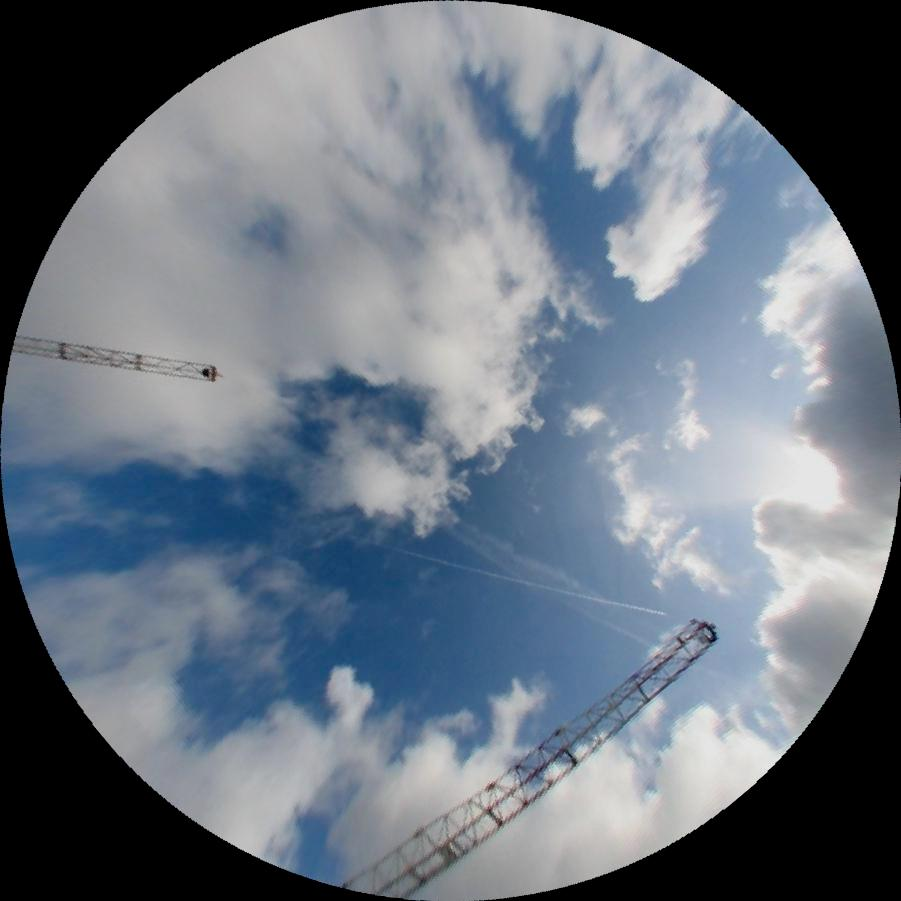contrail veryold: (436, 510, 670, 650)
contrail young: (346, 533, 666, 618)
sun: (764, 439, 849, 528)
